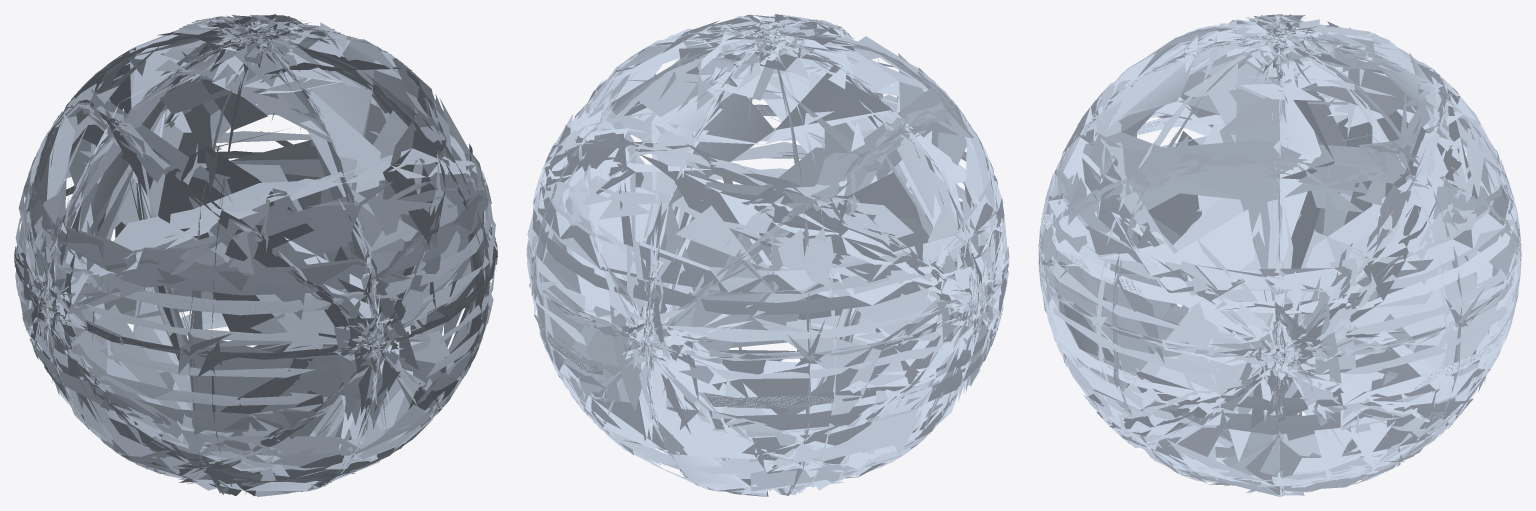
The picture shows the model from 3 angles, left to right: view 1: azimuth 30°, elevation 25°; view 2: azimuth 150°, elevation 25°; view 3: azimuth 270°, elevation 25°; orthographic projection.
Parts seen in each view (by area): view 1: 2A-8-structural; view 2: 2A-8-structural; view 3: 2A-8-structural.
Part boxes in pixels (x1,y1,x2,y2): 2A-8-structural: (14, 14, 497, 496); 2A-8-structural: (526, 14, 1009, 496); 2A-8-structural: (1038, 14, 1521, 496).
Bounding box in the file's own units: 2 × 2 × 2.
